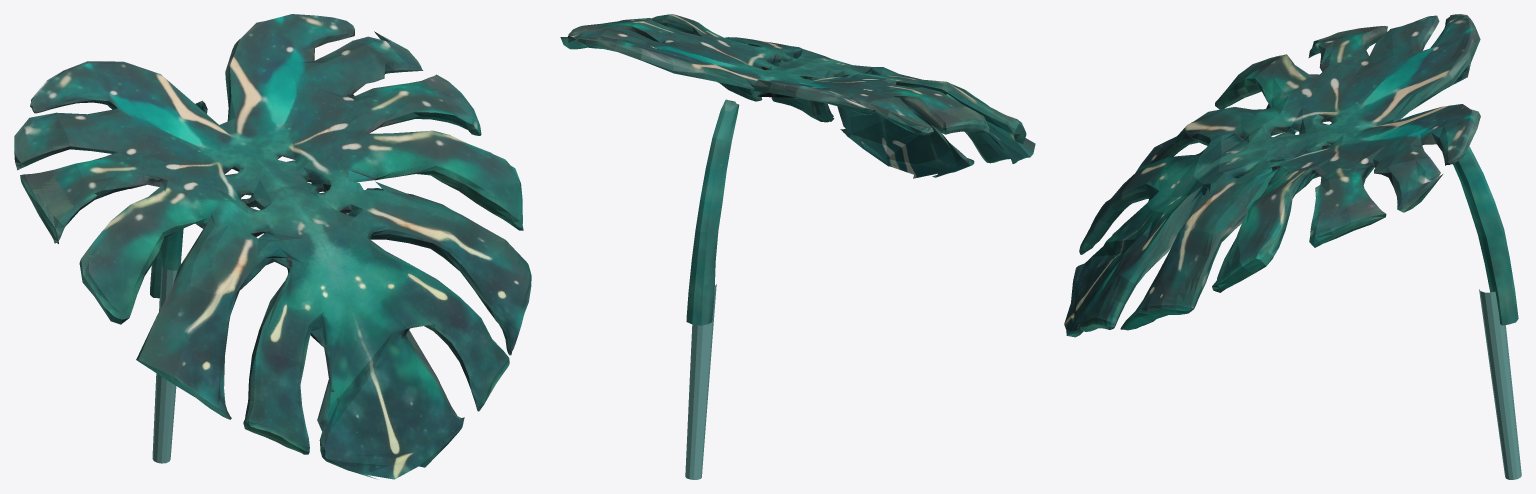
File: mon_galaxy_tealgold.glb
The picture shows the model from 3 angles, left to right: view 1: azimuth 30°, elevation 25°; view 2: azimuth 150°, elevation 25°; view 3: azimuth 270°, elevation 25°; orthographic projection. The views are drawn at different scales.
Visible parts, largest first — view 1: blade, petiole; view 2: blade, petiole; view 3: blade, petiole.
Part boxes in pixels (x1,y1,x2,y2): blade: [14, 14, 531, 479]; petiole: [152, 265, 177, 463]; blade: [560, 14, 1035, 325]; petiole: [685, 284, 716, 479]; blade: [1064, 14, 1518, 337]; petiole: [1479, 289, 1521, 479].
Size of the model in its own units: 2 by 1.93 by 1.98.
Materials: 2 (1 with a texture image).
